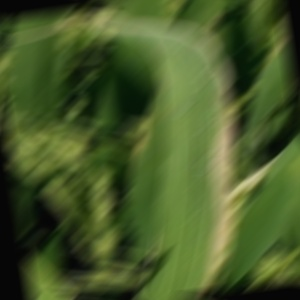Leaf_Blast: (162, 61, 244, 290)
